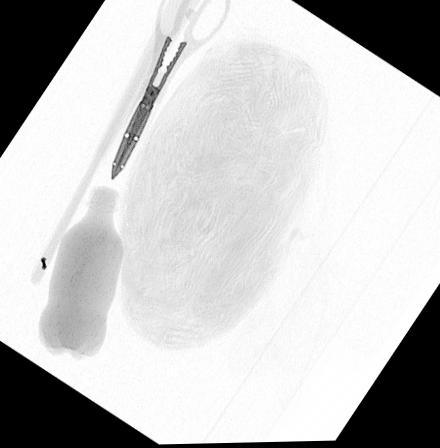Scissors: (108, 0, 231, 183)
